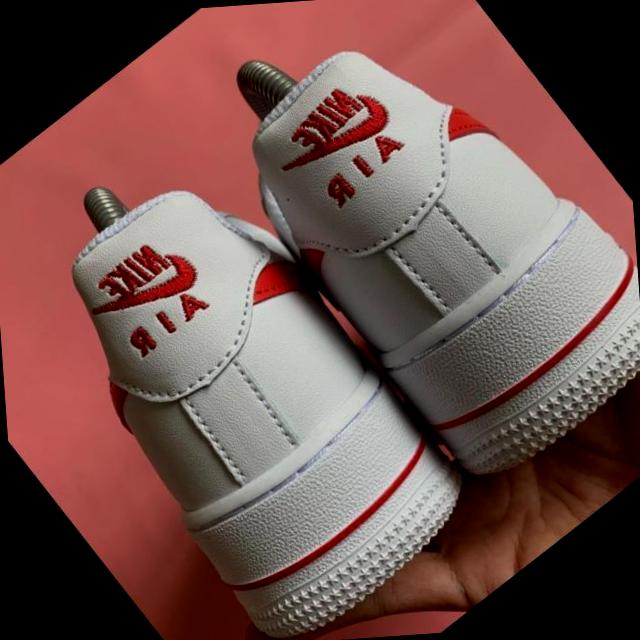nike_fake_airforce: (0, 123, 495, 640), (199, 0, 640, 506)
